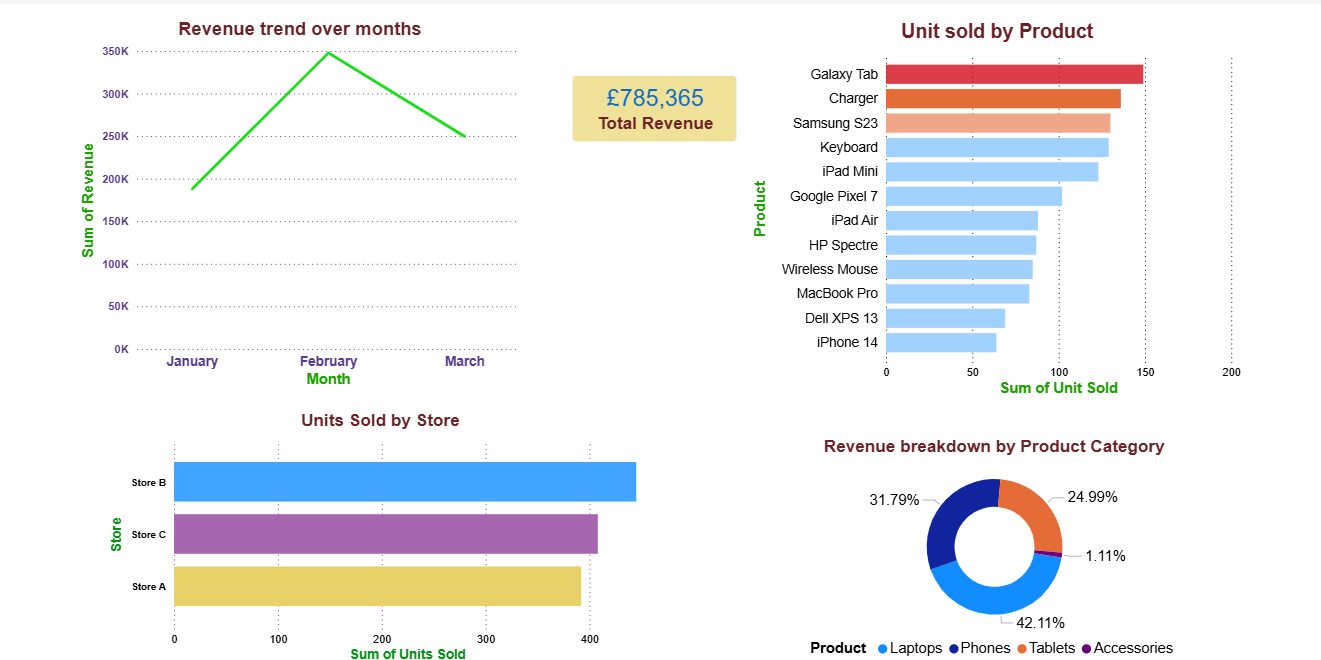

Layout of this report page (visuals, bound fields, positions):
{"tool":"powerbi","page":{"name":"Overview","canvas":[1280,720],"ordinal":0},"visuals":[{"type":"donutChart","title":"Revenue by Product Category","fields":{"Y":["Sum(RR-PRAC4 - retail_sales_q1_2025_large.Revenue)"],"Category":["RR-PRAC4 - retail_sales_q1_2025_large.Product Category"]},"box":[599.6,465.5,583.1,238.5],"z":0},{"type":"clusteredBarChart","title":"Units Sold by Store","fields":{"Category":["RR-PRAC4 - retail_sales_q1_2025_large.Store"],"Y":["Sum(RR-PRAC4 - retail_sales_q1_2025_large.Units Sold)"]},"box":[43.1,443.9,596.3,248.5],"z":1000},{"type":"clusteredBarChart","title":"Unit sold by Product","fields":{"Category":["RR-PRAC4 - retail_sales_q1_2025_large.Product"],"Y":["Sum(RR-PRAC4 - retail_sales_q1_2025_large.Units Sold)"]},"box":[762,26.5,518.5,417.4],"z":2000},{"type":"lineChart","title":"Revenue trend over months","fields":{"Y":["Sum(RR-PRAC4 - retail_sales_q1_2025_large.Revenue)"],"Category":["RR-PRAC4 - retail_sales_q1_2025_large.Date.Variation.Date Hierarchy.Month"]},"box":[0,0,508.5,430.7],"z":3000},{"type":"cardVisual","title":"Total Revenue Q1","fields":{"Data":["Sum(RR-PRAC4 - retail_sales_q1_2025_large.Revenue)"]},"box":[538.4,59.6,203.7,101],"z":4000}]}

Visuals, with their boxes on the page's 1280x720 design canvas (x1, y1, x2, y2). These are canvas units, not pixel positions in the 1321x660 screenshot, which may show the page scaled, cropped or inside an application window:
"Revenue by Product Category" donutChart: left=600, top=466, right=1183, bottom=704
"Units Sold by Store" clusteredBarChart: left=43, top=444, right=639, bottom=692
"Unit sold by Product" clusteredBarChart: left=762, top=26, right=1280, bottom=444
"Revenue trend over months" lineChart: left=0, top=0, right=508, bottom=431
"Total Revenue Q1" cardVisual: left=538, top=60, right=742, bottom=161
